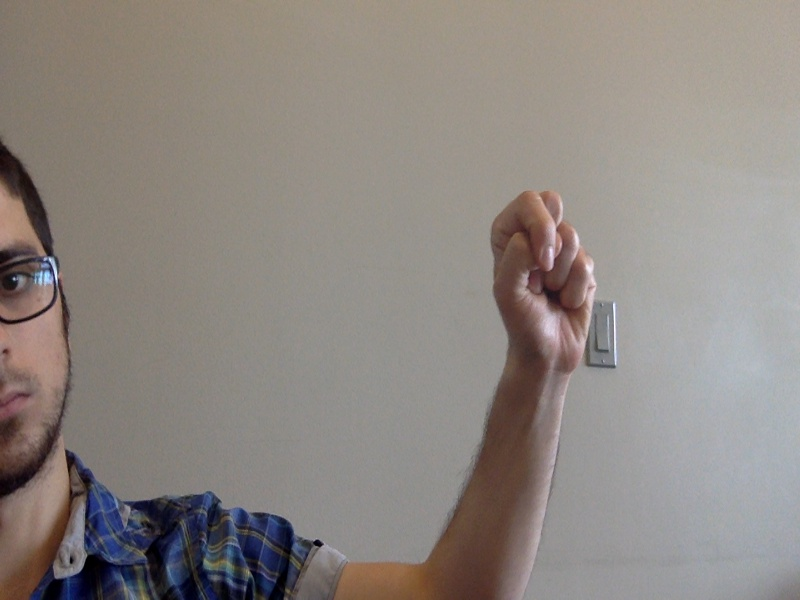0-hand: (488, 188, 600, 373)
